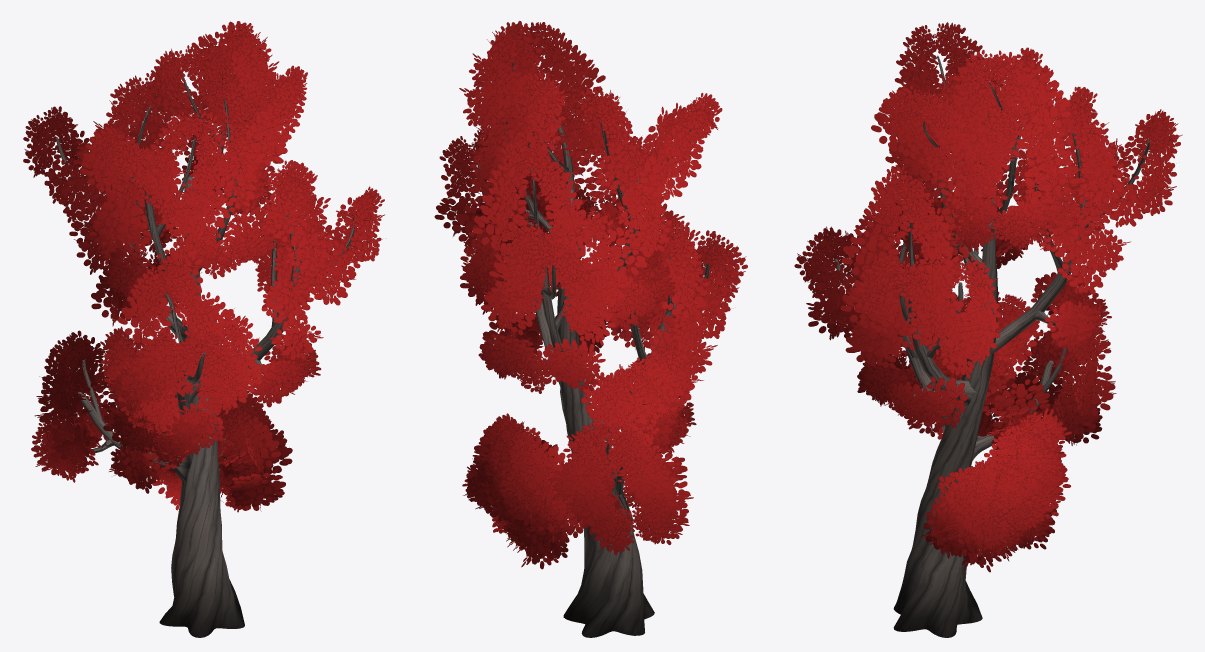
The model's file is TwistedTree_4.gltf.
The picture shows the model from 3 angles, left to right: view 1: azimuth 30°, elevation 25°; view 2: azimuth 150°, elevation 25°; view 3: azimuth 270°, elevation 25°; orthographic projection. The views are drawn at different scales.
Visible parts, largest first — view 1: TwistedTree_4; view 2: TwistedTree_4; view 3: TwistedTree_4.
Boxes of the visible parts, x1,y1,x2,y2 form: TwistedTree_4: (23, 21, 384, 637); TwistedTree_4: (434, 21, 747, 637); TwistedTree_4: (794, 22, 1182, 637).
Bounding box in the file's own units: 10.38 × 18.74 × 11.29.
2 materials, 2 textured.
